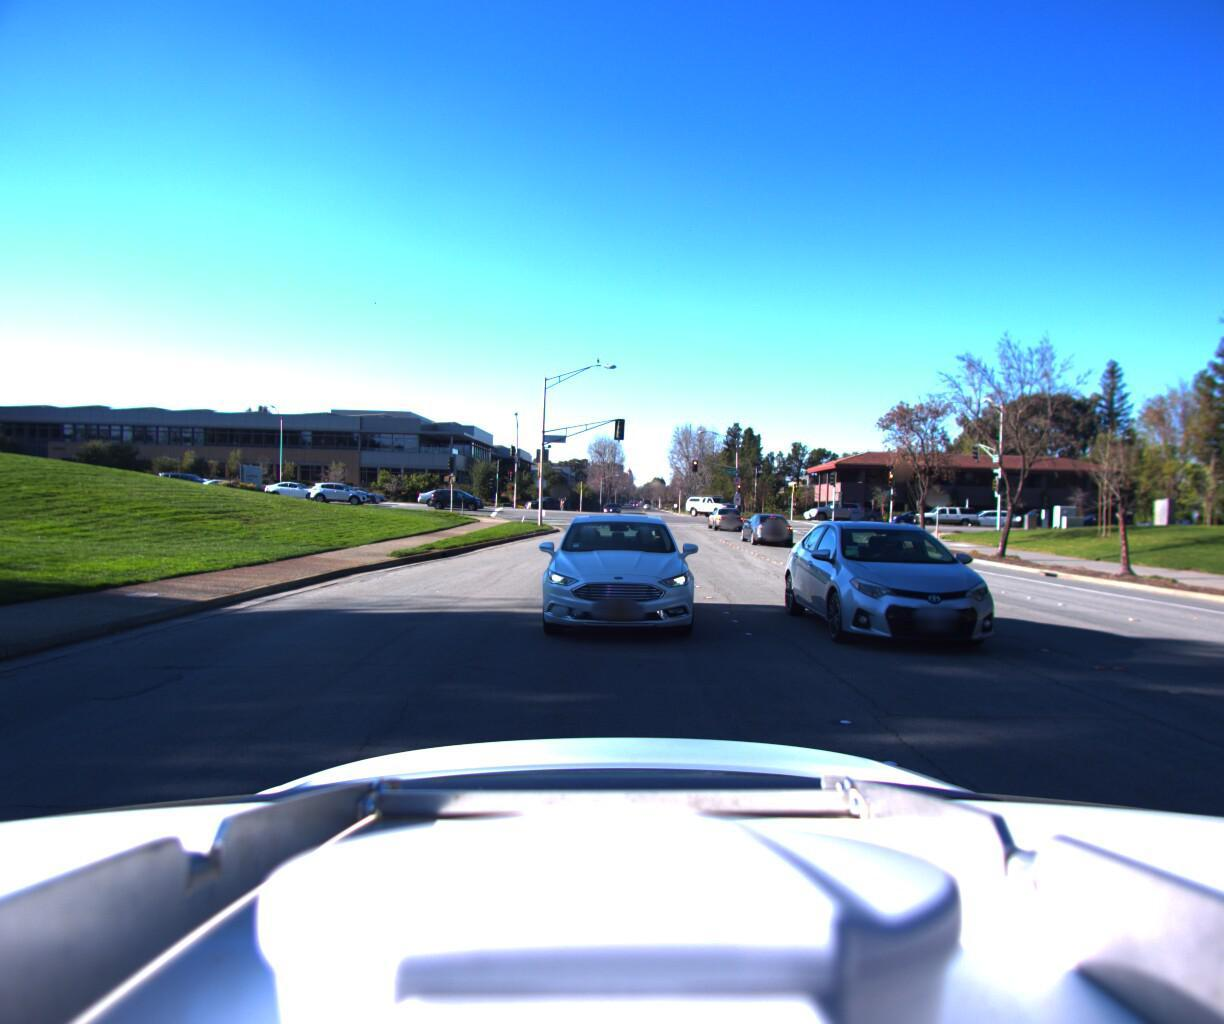bicycle: (552, 488, 564, 507)
car: (796, 506, 1105, 691), (532, 506, 698, 651), (740, 510, 795, 545), (907, 502, 980, 526), (308, 480, 374, 504), (259, 478, 330, 500), (952, 507, 1019, 530), (428, 486, 488, 509), (686, 493, 745, 517), (417, 486, 479, 507), (802, 499, 864, 521), (821, 503, 885, 523), (329, 484, 390, 503), (881, 507, 936, 526), (707, 503, 745, 529), (522, 496, 568, 511)
